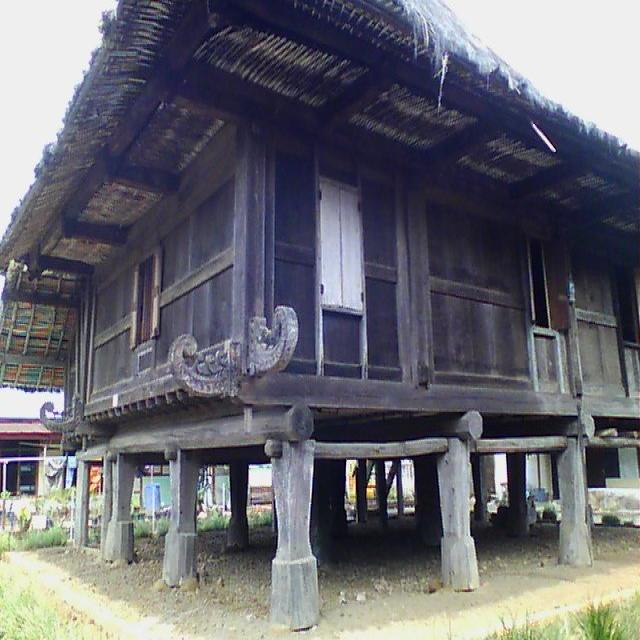Atap: (0, 1, 639, 388)
Ornamen: (168, 307, 298, 400)
jendela: (130, 249, 159, 348)
